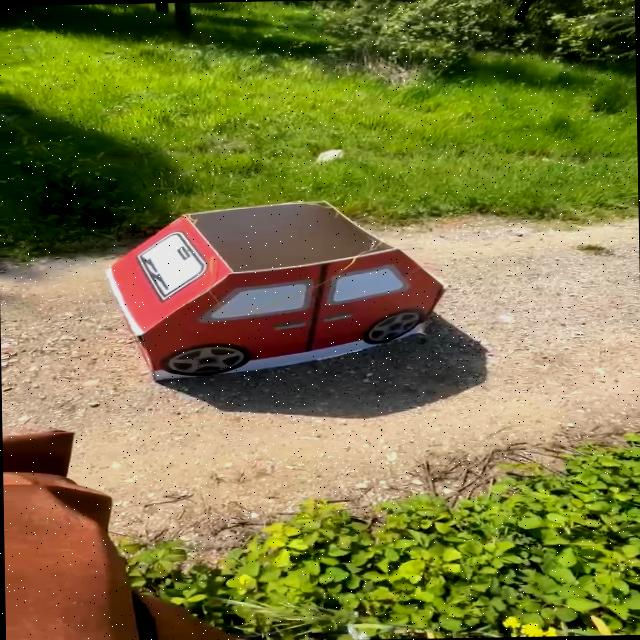red_car: (78, 184, 457, 408)
